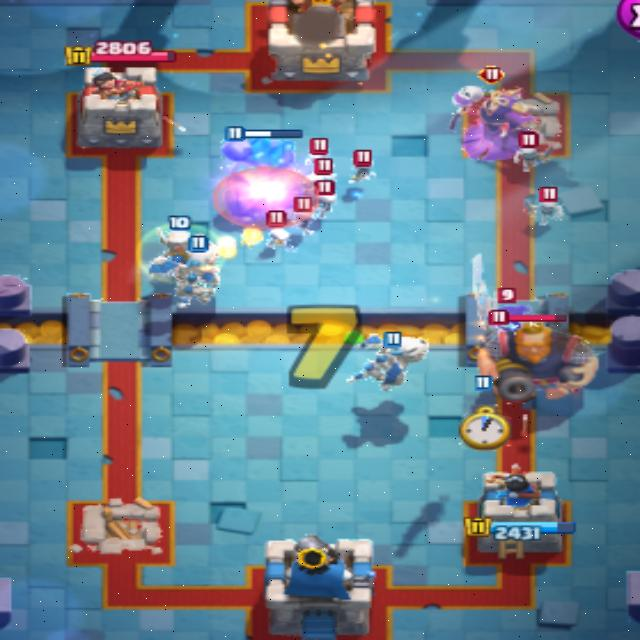EEVWitch: (459, 97, 533, 160)
EKingTower: (248, 12, 384, 90)
ELarry: (534, 188, 561, 229), (264, 210, 288, 252), (517, 132, 539, 172), (313, 183, 339, 215), (350, 150, 373, 184), (297, 199, 317, 238), (307, 137, 330, 168), (312, 158, 334, 184)
ERoyaleG: (479, 322, 589, 404)
EnemyPrincessTower: (72, 69, 170, 155)
OHealer: (145, 223, 200, 270)
OSkelDrag: (360, 332, 430, 392), (181, 241, 218, 306)
OwnKingTower: (250, 540, 388, 640)
OwnPrincessTower: (465, 468, 574, 564)
TowerDown: (71, 501, 171, 565)
